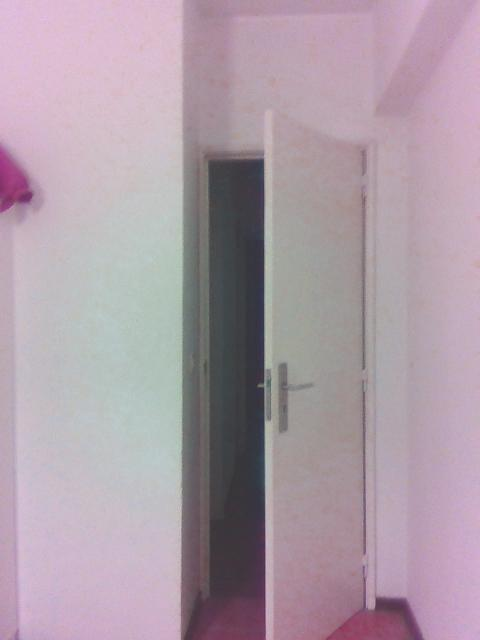semi_door: (192, 101, 376, 639)
